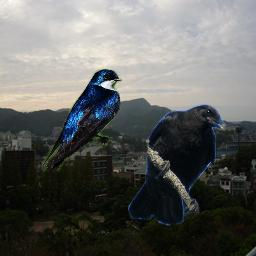Crow: (128, 104, 227, 226)
Swallow: (42, 69, 122, 172)
